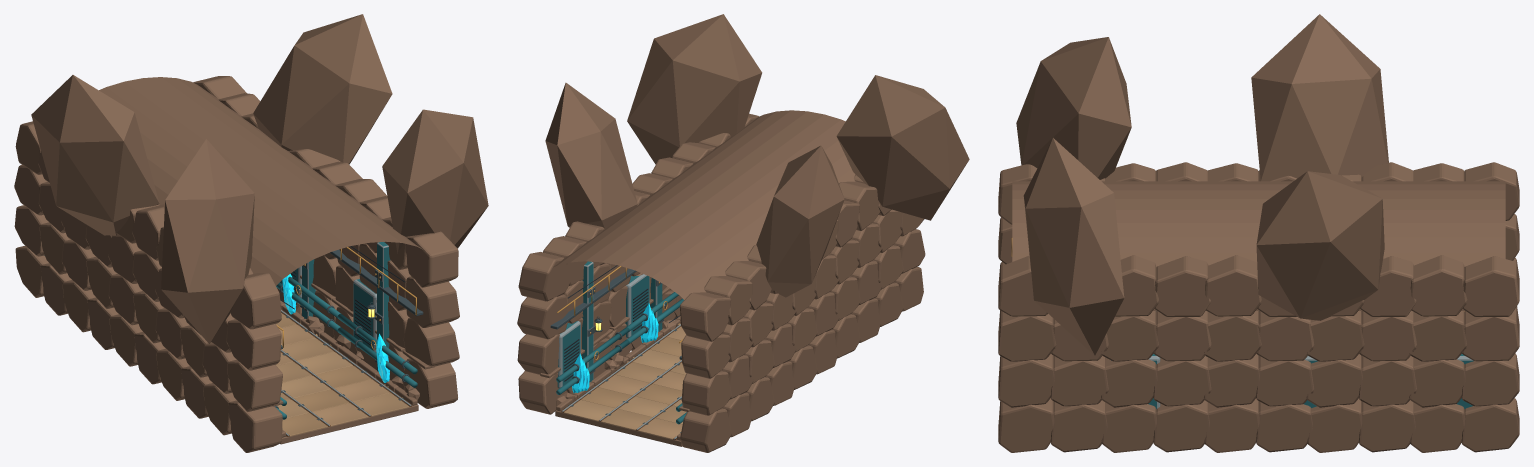
File: industrial_track.glb
The picture shows the model from 3 angles, left to right: view 1: azimuth 30°, elevation 25°; view 2: azimuth 150°, elevation 25°; view 3: azimuth 270°, elevation 25°; orthographic projection. The views are drawn at different scales.
Visible parts, largest first — view 1: industrial_track; view 2: industrial_track; view 3: industrial_track.
Boxes of the visible parts, x1,y1,x2,y2 form: industrial_track: (14,14,488,452); industrial_track: (517,14,969,452); industrial_track: (998,14,1519,452).
Bounding box in the file's own units: 20.17 × 16.7 × 25.38.
17 materials, 5 textured.
